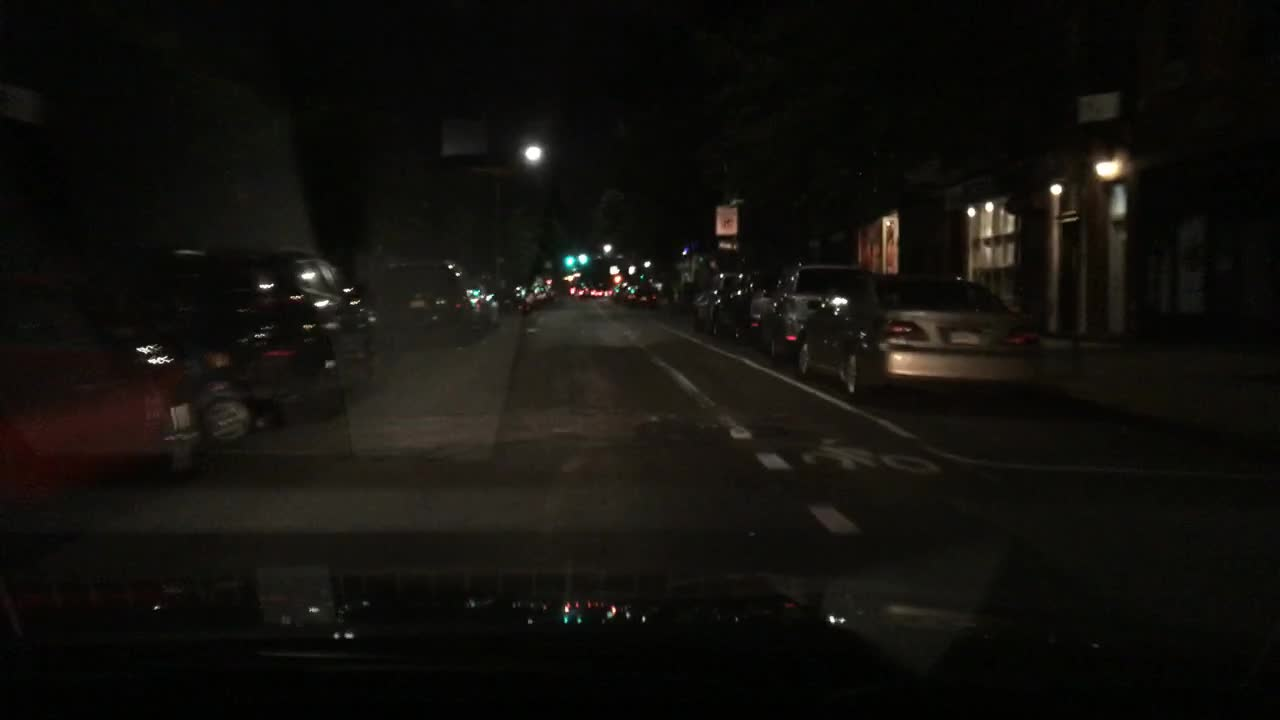car: (0, 263, 253, 503), (131, 239, 378, 425), (791, 273, 1043, 405), (364, 256, 501, 347), (759, 256, 870, 368), (708, 266, 784, 347), (688, 266, 746, 334), (624, 280, 661, 312), (509, 282, 541, 312), (528, 273, 557, 300), (587, 283, 607, 300), (567, 280, 584, 299), (611, 280, 627, 300)
traffic light: (563, 246, 575, 266)
traffic sign: (1075, 91, 1119, 125), (714, 206, 737, 233), (715, 238, 741, 250)
